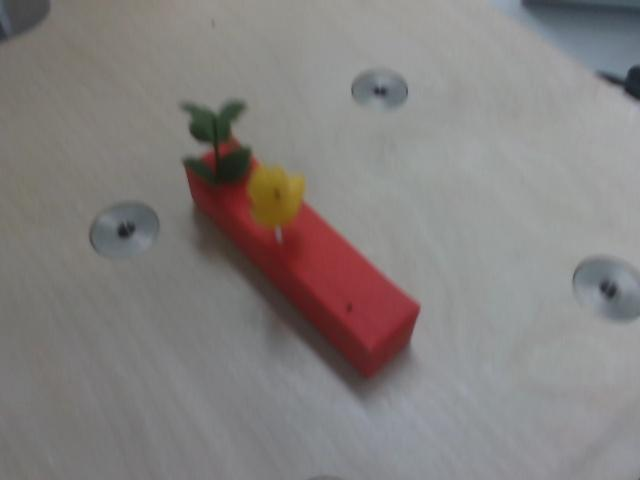leaf: (180, 103, 249, 188)
y_duck: (251, 168, 307, 229)
